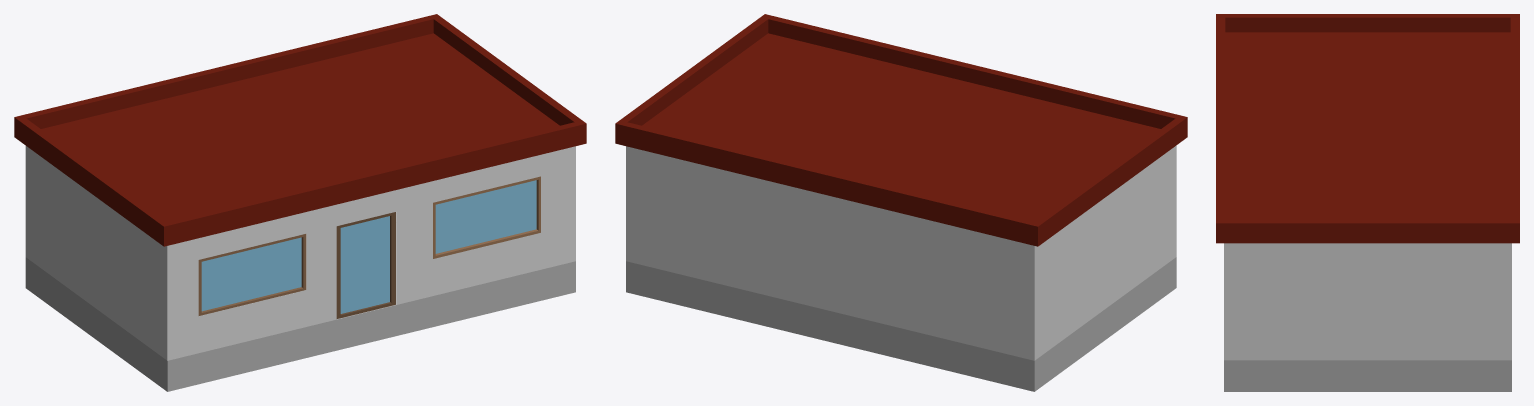
File: building_3.fbx
3 views of the same model, side by side, from view 1: azimuth 30°, elevation 25°; view 2: azimuth 150°, elevation 25°; view 3: azimuth 270°, elevation 25° (orthographic).
Parts seen in each view (by area): view 1: Cube; view 2: Cube; view 3: Cube.
Part boxes in pixels (x1=…): Cube: x1=14, y1=14, x2=586, y2=391; Cube: x1=615, y1=14, x2=1187, y2=391; Cube: x1=1216, y1=14, x2=1519, y2=391.
Bounding box in the file's own units: 892 × 342 × 547.
Materials: 1 (1 with a texture image).
